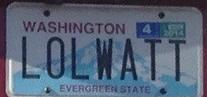0: (46, 34, 68, 78)
A: (119, 36, 140, 82)
L: (21, 33, 44, 83), (69, 36, 93, 82)
T: (167, 37, 191, 85), (143, 36, 164, 83)
W: (95, 36, 118, 81)
